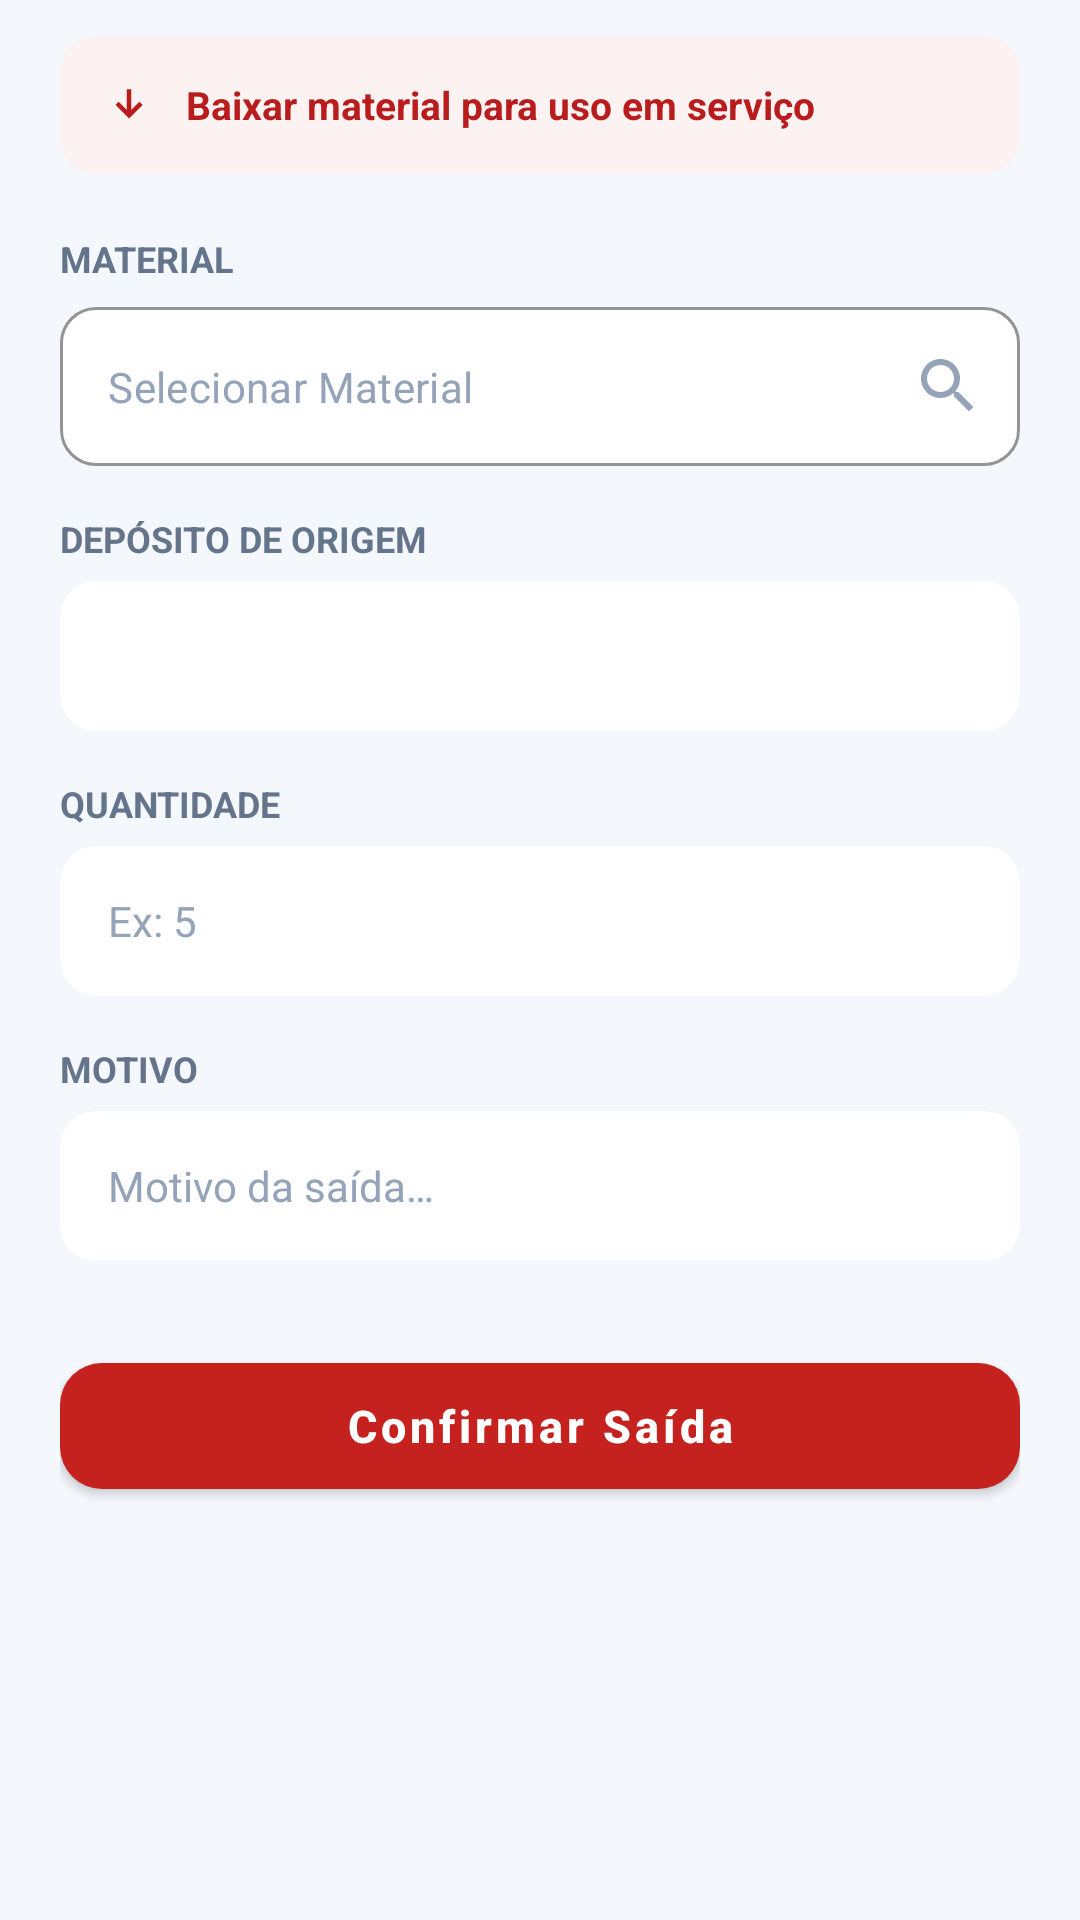

Where to tap for icons on this 1080 × 1920 app screen, as (x,y):
arrow down: (129,104)
